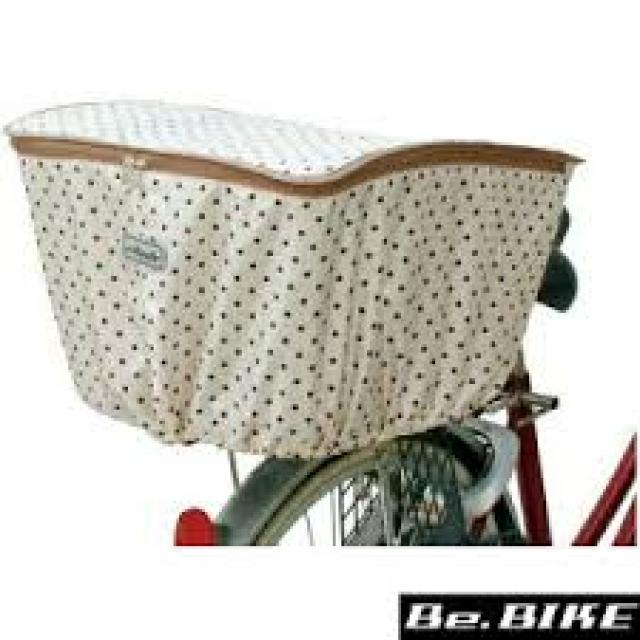basket: (5, 97, 582, 459)
